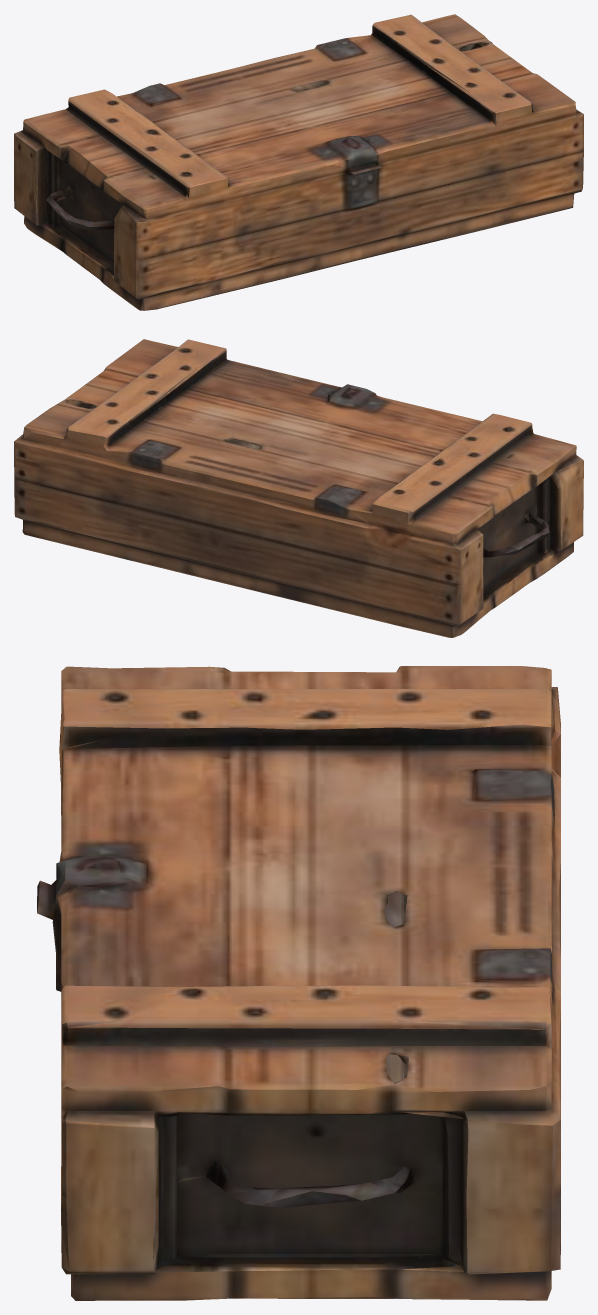
The model's file is cargo_wooden_crate_low.glb.
3 views of the same model, one above another, from view 1: azimuth 30°, elevation 25°; view 2: azimuth 150°, elevation 25°; view 3: azimuth 270°, elevation 25° (orthographic). The views are drawn at different scales.
Visible parts, largest first — view 1: turn; view 2: turn; view 3: turn.
Boxes of the visible parts, left/top/right/bottom form: turn: left=14, top=14, right=583, bottom=310; turn: left=14, top=339, right=583, bottom=637; turn: left=37, top=666, right=560, bottom=1300.
Bounding box in the file's own units: 2.54 × 0.6 × 1.19.
1 material, 1 textured.
